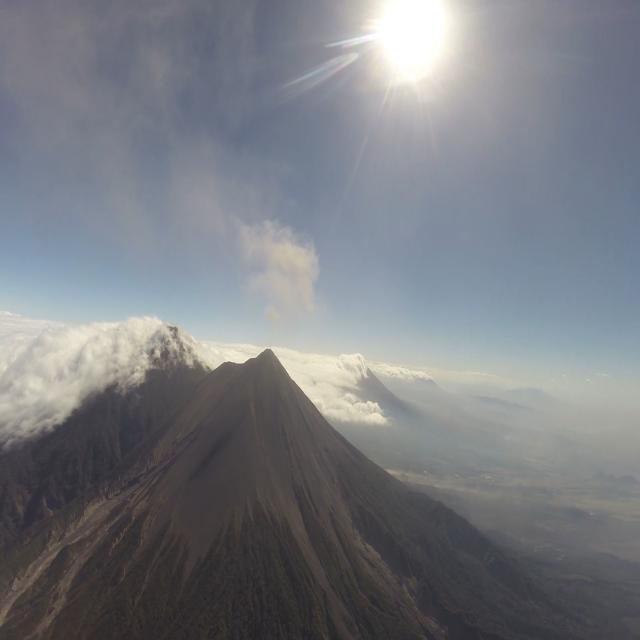Plume: (243, 214, 327, 328)
Summit: (244, 344, 288, 374)
